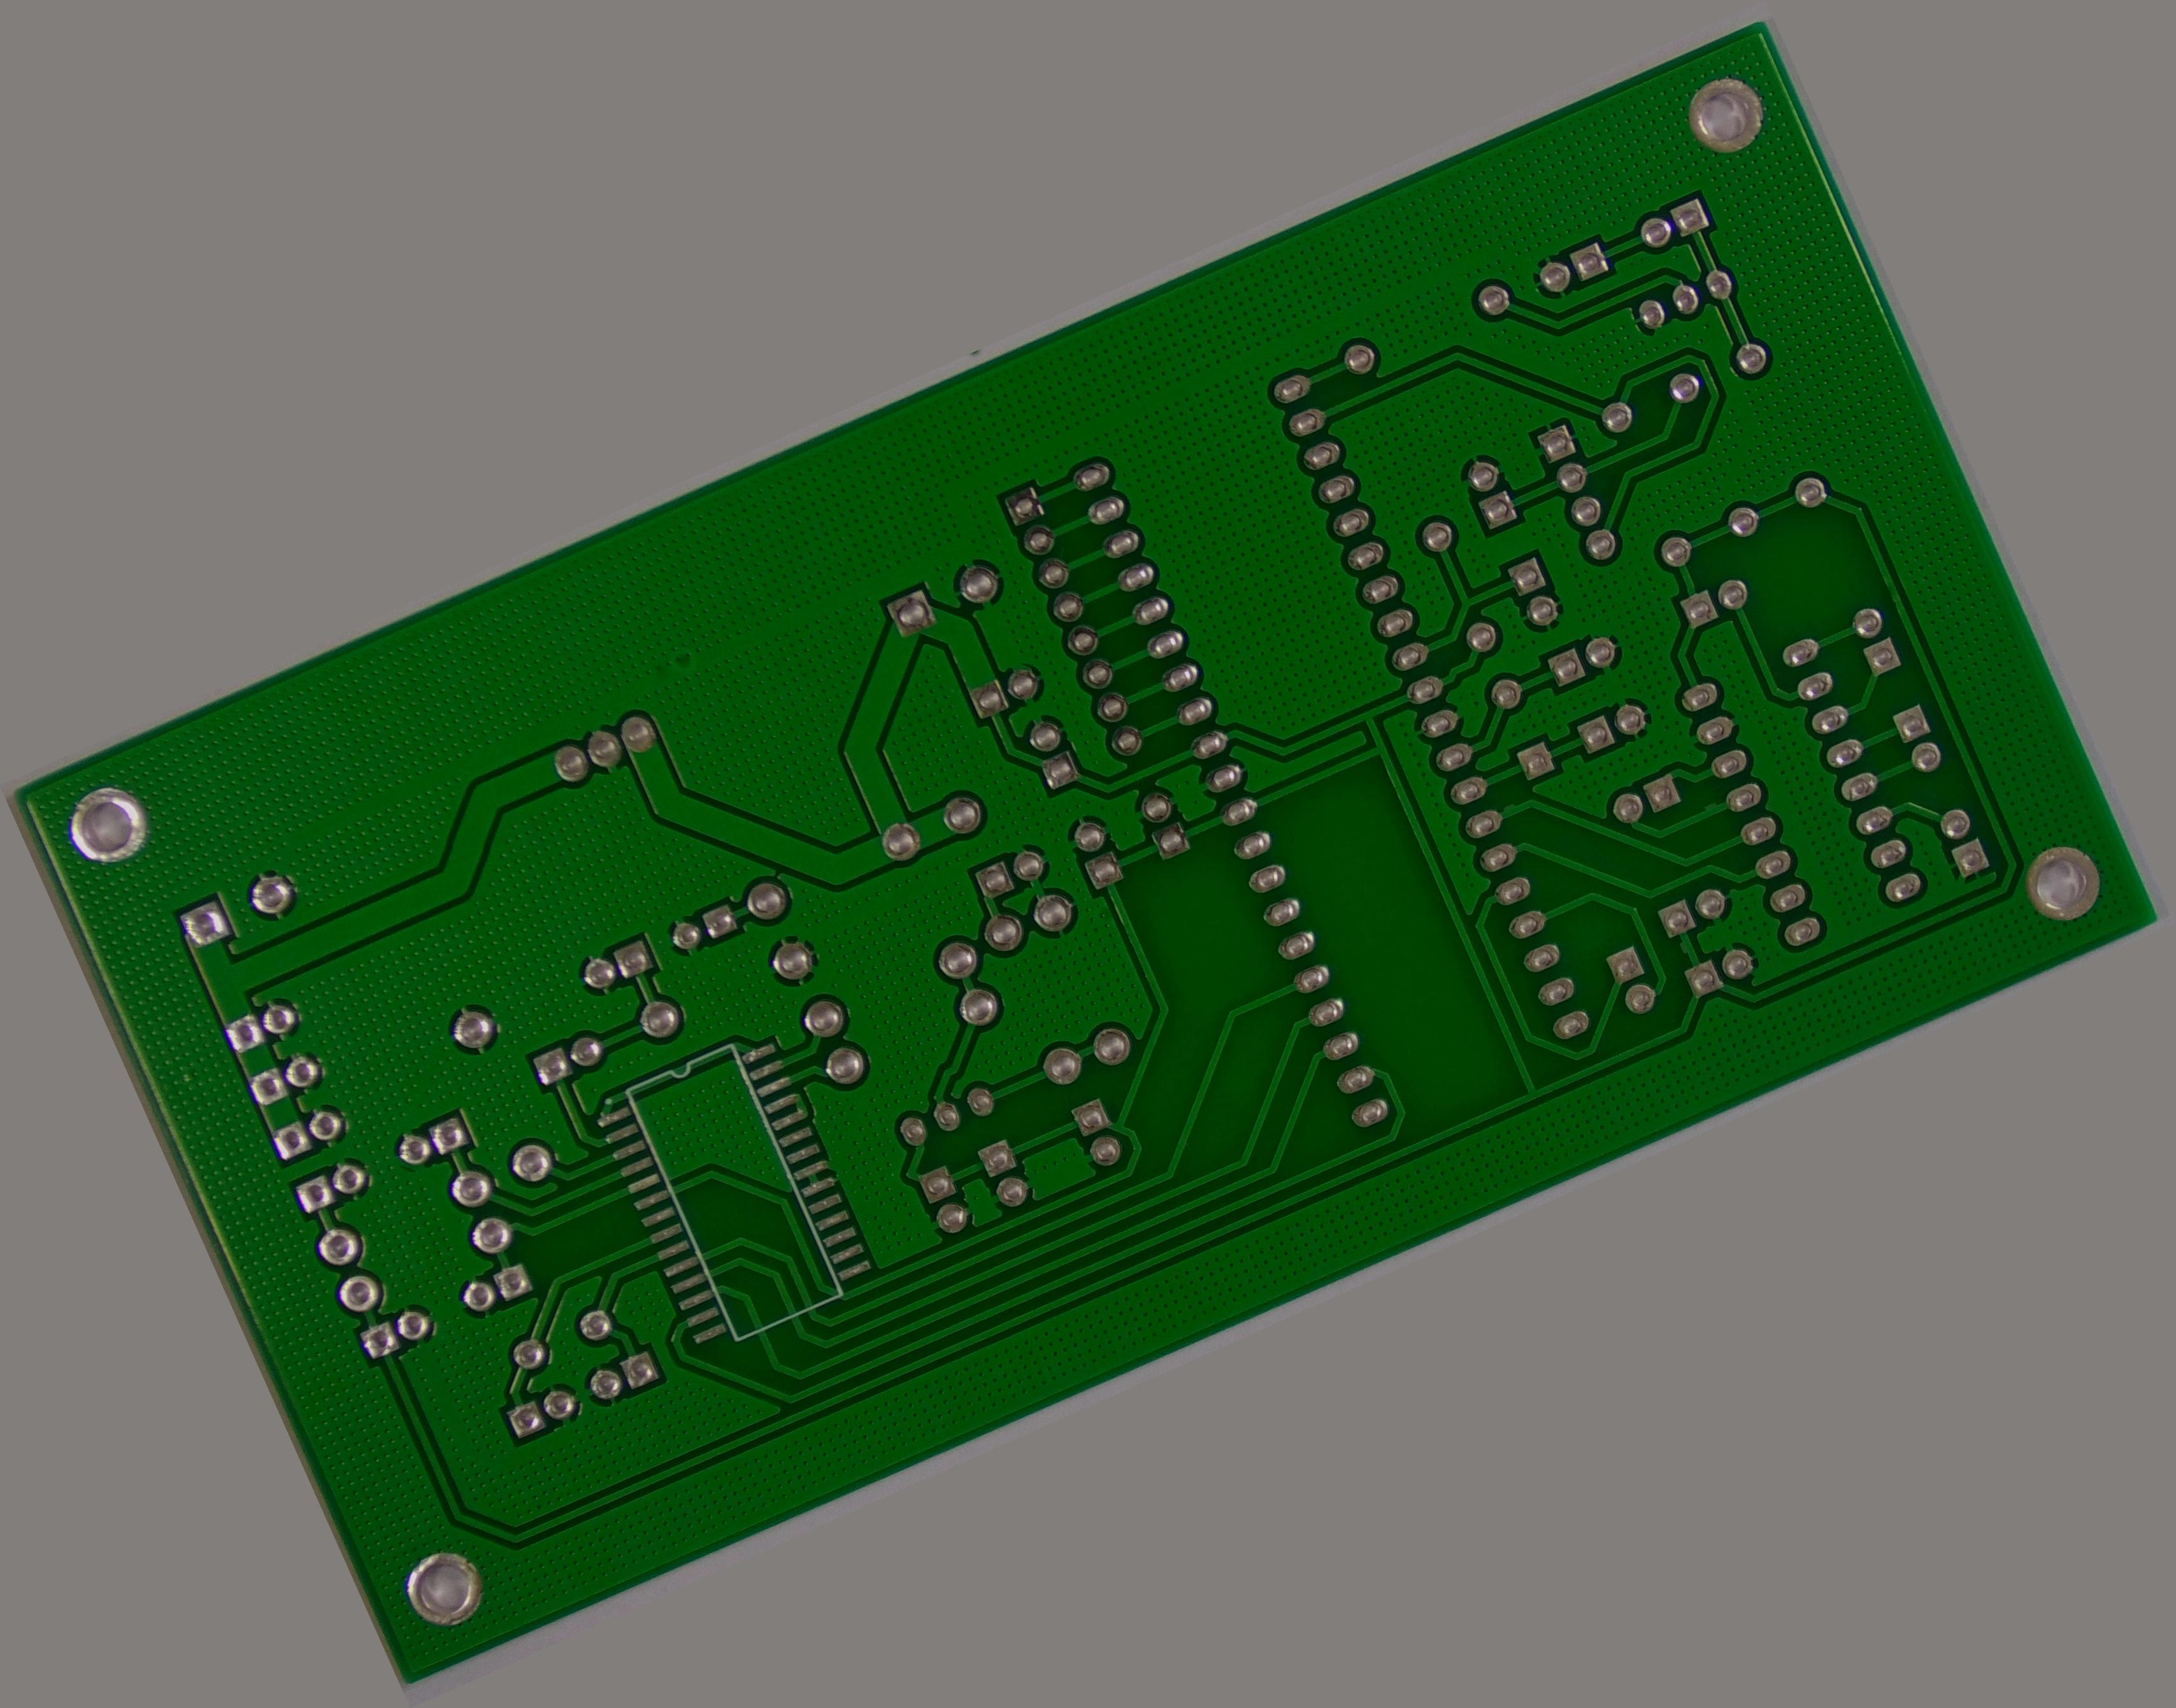spur: (1492, 791, 1530, 827), (1694, 790, 1731, 825), (1669, 931, 1699, 963)
